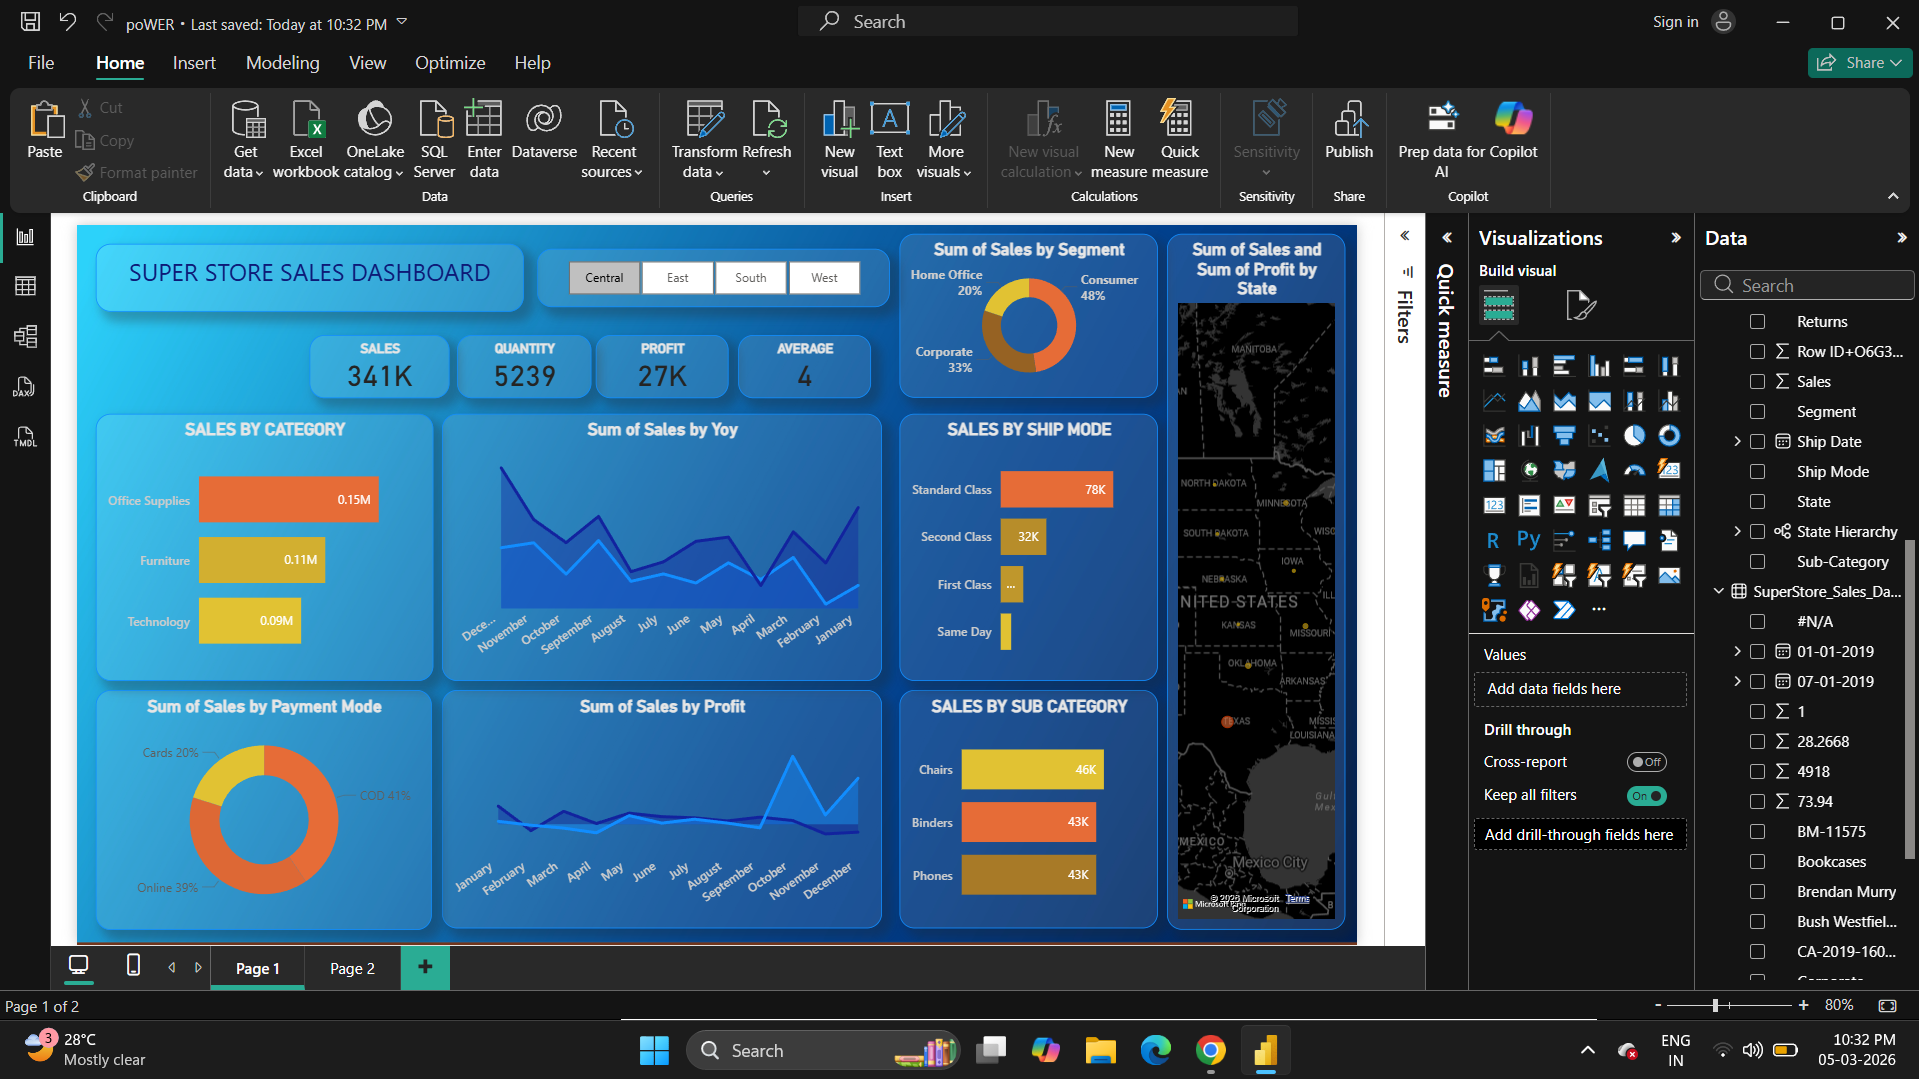

What the dashboard file says about the page in this screenshot:
{"tool":"powerbi","page":{"name":"Page 1","canvas":[1280,720],"ordinal":0},"visuals":[{"type":"clusteredBarChart","title":"SALES BY CATEGORY","fields":{"Category":["SuperStore_Sales_Dataset.Category"],"Y":["Sum(SuperStore_Sales_Dataset.Sales)"]},"box":[18.8,188.8,337.5,267.5],"z":0},{"type":"clusteredBarChart","title":"SALES BY SUB CATEGORY","fields":{"Category":["SuperStore_Sales_Dataset.Sub-Category"],"Y":["Sum(SuperStore_Sales_Dataset.Sales)"]},"box":[822.5,465,258.8,238.8],"z":1000},{"type":"clusteredBarChart","title":"SALES BY SHIP MODE","fields":{"Category":["SuperStore_Sales_Dataset.Ship Mode"],"Y":["Sum(SuperStore_Sales_Dataset.Sales)"]},"box":[822.5,188.8,258.8,267.5],"z":2000},{"type":"areaChart","title":"Sum of Sales by Yoy","fields":{"Y":["Sum(SuperStore_Sales_Dataset.Sales)"],"Series":["SuperStore_Sales_Dataset.Order Date.Variation.Date Hierarchy.Year"],"Category":["SuperStore_Sales_Dataset.Order Date.Variation.Date Hierarchy.Month"]},"box":[365,188.8,440,267.5],"z":3000},{"type":"areaChart","title":"Sum of Sales by Profit","fields":{"Series":["SuperStore_Sales_Dataset.Order Date.Variation.Date Hierarchy.Year"],"Y":["Sum(SuperStore_Sales_Dataset.Profit)"],"Category":["SuperStore_Sales_Dataset.Order Date.Variation.Date Hierarchy.Month"]},"box":[365,465,440,238.8],"z":4000},{"type":"donutChart","fields":{"Category":["SuperStore_Sales_Dataset.Segment"],"Y":["Sum(SuperStore_Sales_Dataset.Sales)"]},"box":[822.5,8.8,258.8,163.8],"z":5000},{"type":"donutChart","fields":{"Category":["SuperStore_Sales_Dataset.Payment Mode"],"Y":["Sum(SuperStore_Sales_Dataset.Sales)"]},"box":[18.8,465,336.2,240],"z":6000},{"type":"slicer","fields":{"Values":["SuperStore_Sales_Dataset.Region"]},"box":[460,24.3,352.9,58.6],"z":7000},{"type":"textbox","box":[18.3,18.3,428.3,68.3],"z":8000},{"type":"card","title":"SALES","fields":{"Values":["Sum(SuperStore_Sales_Dataset.Sales)"]},"box":[232.9,110,140,62.9],"z":9000},{"type":"card","title":"QUANTITY","fields":{"Values":["Sum(SuperStore_Sales_Dataset.Quantity)"]},"box":[380,110,134.3,62.9],"z":10000},{"type":"card","title":"PROFIT","fields":{"Values":["Sum(SuperStore_Sales_Dataset.Profit)"]},"box":[518.6,110,132.9,62.9],"z":11000},{"type":"card","title":"AVERAGE","fields":{"Values":["Avg(SuperStore_Sales_Dataset.averagedelovery)"]},"box":[661.4,110,132.9,62.9],"z":12000},{"type":"map","fields":{"Category":["SuperStore_Sales_Dataset.State"],"Size":["Sum(SuperStore_Sales_Dataset.Sales)"]},"box":[1090,8.8,178.8,696.2],"z":13000}]}

Visuals, with their boxes on the page's 1280x720 design canvas (x1, y1, x2, y2). These are canvas units, not pixel positions in the 1919x1079 screenshot, which may show the page scaled, cropped or inside an application window:
"SALES BY CATEGORY" clusteredBarChart: rect(19, 189, 356, 456)
"SALES BY SUB CATEGORY" clusteredBarChart: rect(822, 465, 1081, 704)
"SALES BY SHIP MODE" clusteredBarChart: rect(822, 189, 1081, 456)
"Sum of Sales by Yoy" areaChart: rect(365, 189, 805, 456)
"Sum of Sales by Profit" areaChart: rect(365, 465, 805, 704)
donutChart - SuperStore_Sales_Dataset.Segment x Sum(SuperStore_Sales_Dataset.Sales): rect(822, 9, 1081, 173)
donutChart - SuperStore_Sales_Dataset.Payment Mode x Sum(SuperStore_Sales_Dataset.Sales): rect(19, 465, 355, 705)
slicer - SuperStore_Sales_Dataset.Region: rect(460, 24, 813, 83)
textbox: rect(18, 18, 447, 87)
"SALES" card: rect(233, 110, 373, 173)
"QUANTITY" card: rect(380, 110, 514, 173)
"PROFIT" card: rect(519, 110, 652, 173)
"AVERAGE" card: rect(661, 110, 794, 173)
map - SuperStore_Sales_Dataset.State x Sum(SuperStore_Sales_Dataset.Sales): rect(1090, 9, 1269, 705)
